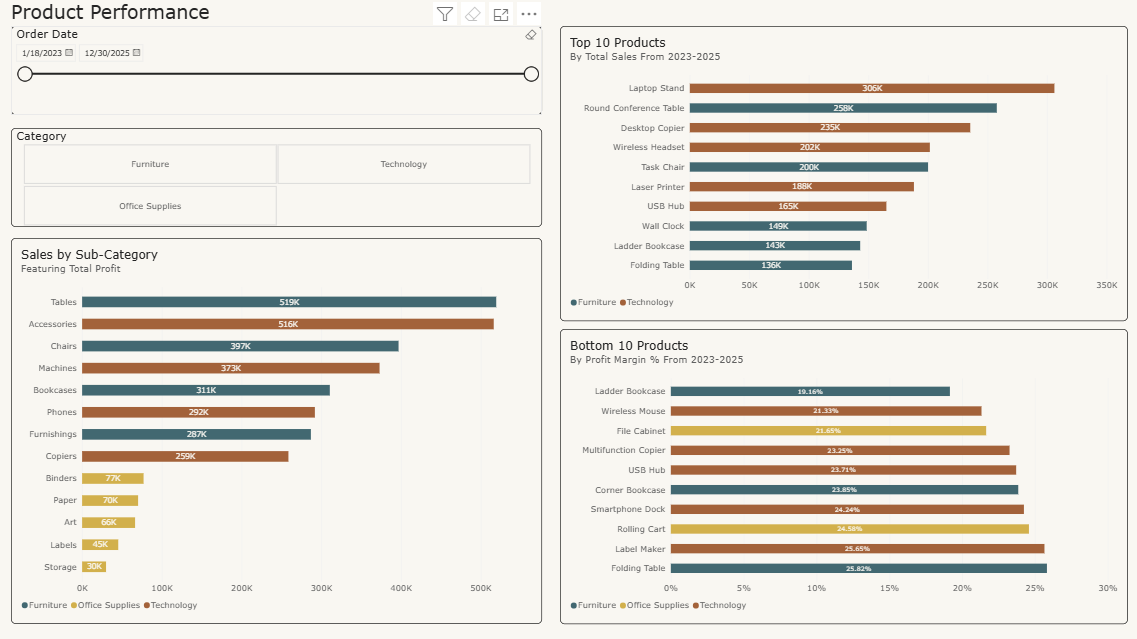

The dashboard page shown, as its layout file describes it:
{"tool":"powerbi","page":{"name":"Page 2","canvas":[1920,1080],"ordinal":1},"visuals":[{"type":"textbox","box":[20.2,0,374.2,42.9],"z":0},{"type":"barChart","title":"Sales by Sub-Category","fields":{"Category":["products.sub_category"],"Y":["orders.Total Sales"],"Series":["products.category"]},"box":[20.2,401.5,895.9,651.2],"z":1000},{"type":"barChart","title":"Top 10 Products","fields":{"Category":["products.product_name"],"Y":["orders.Total Sales"],"Series":["products.category"]},"box":[946.5,43.9,958.3,497.7],"z":2000},{"type":"barChart","title":"Bottom 10 Products","fields":{"Category":["products.product_name"],"Y":["orders.Profit Margin %"],"Series":["products.category"]},"box":[946.5,555.1,958.3,497.7],"z":3000},{"type":"slicer","fields":{"Values":["orders.order_date"]},"box":[20.2,43.9,895.9,150.2],"z":4000},{"type":"slicer","fields":{"Values":["products.category"]},"box":[20.2,216,895.9,167],"z":5000}]}

Visuals, with their boxes in screenshot pixels (x1, y1, x2, y2), scaled from the page's 1920x1080 canvas onto the 1137x639 screenshot:
textbox: [12, 0, 234, 25]
"Sales by Sub-Category" barChart: [12, 238, 543, 623]
"Top 10 Products" barChart: [561, 26, 1128, 320]
"Bottom 10 Products" barChart: [561, 328, 1128, 623]
slicer - orders.order_date: [12, 26, 543, 115]
slicer - products.category: [12, 128, 543, 227]
